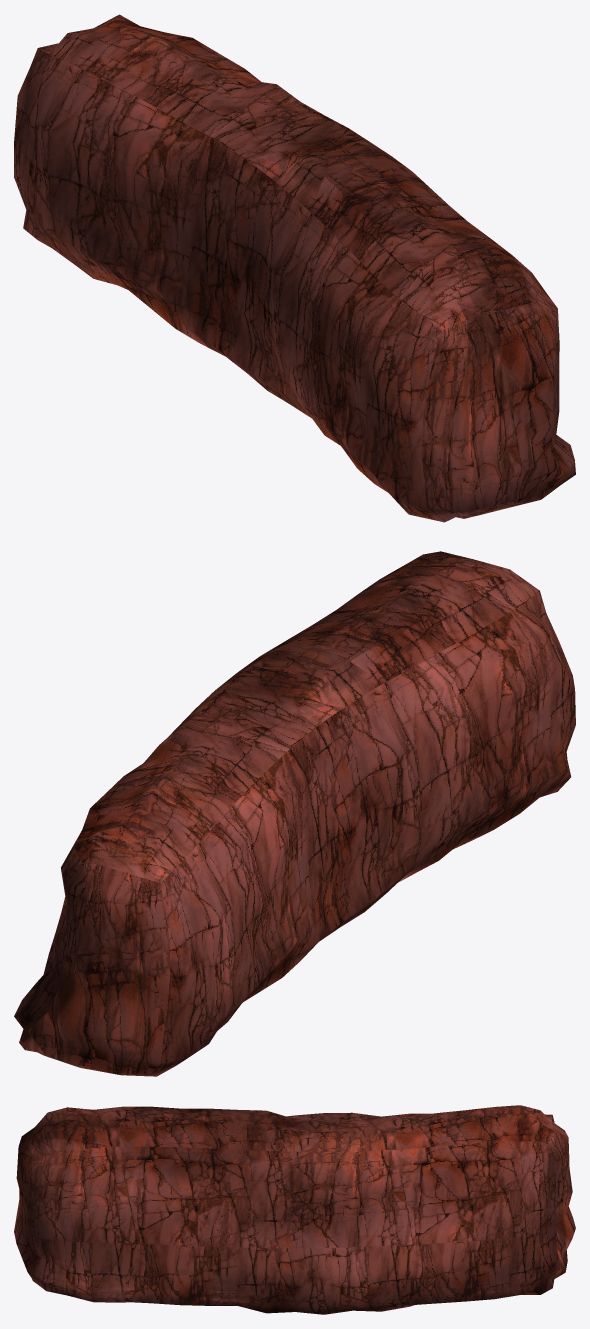
File: rockwall.glb
The picture shows the model from 3 angles, top to bottom: view 1: azimuth 30°, elevation 25°; view 2: azimuth 150°, elevation 25°; view 3: azimuth 270°, elevation 25°; orthographic projection. The views are drawn at different scales.
Visible parts, largest first — view 1: Cube; view 2: Cube; view 3: Cube.
Part boxes in pixels (left/top/right/bottom): Cube: left=14, top=14, right=575, bottom=522; Cube: left=14, top=551, right=575, bottom=1076; Cube: left=14, top=1105, right=575, bottom=1314.
Bounding box in the file's own units: 10.6 × 10.84 × 33.09.
Materials: 1 (1 with a texture image).
